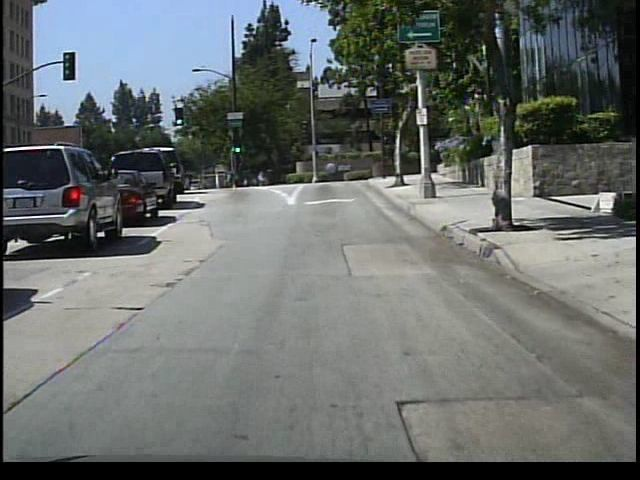person: (223, 165, 238, 190), (254, 165, 269, 190)
